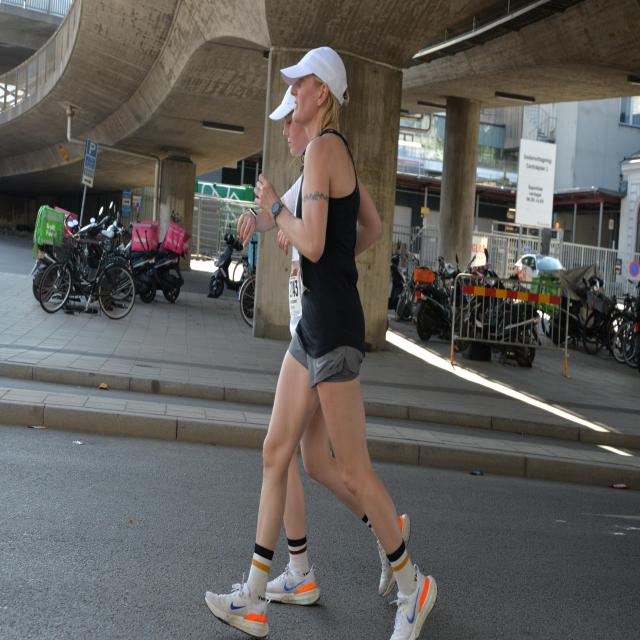runner-detect: (204, 20, 447, 637)
